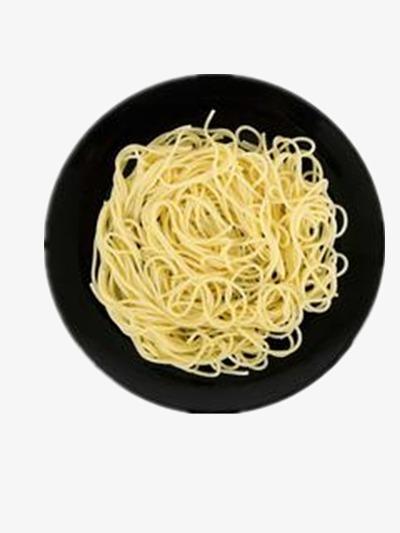plain spaghetti: (103, 134, 309, 345)
